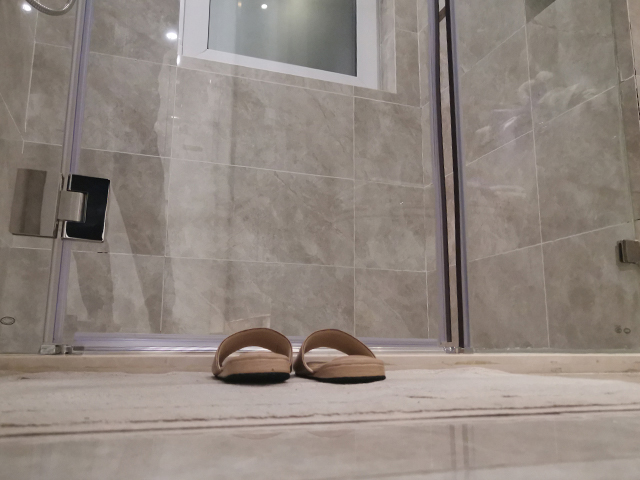carpet: (3, 372, 639, 433)
slippers: (209, 326, 293, 387), (301, 327, 385, 388)
